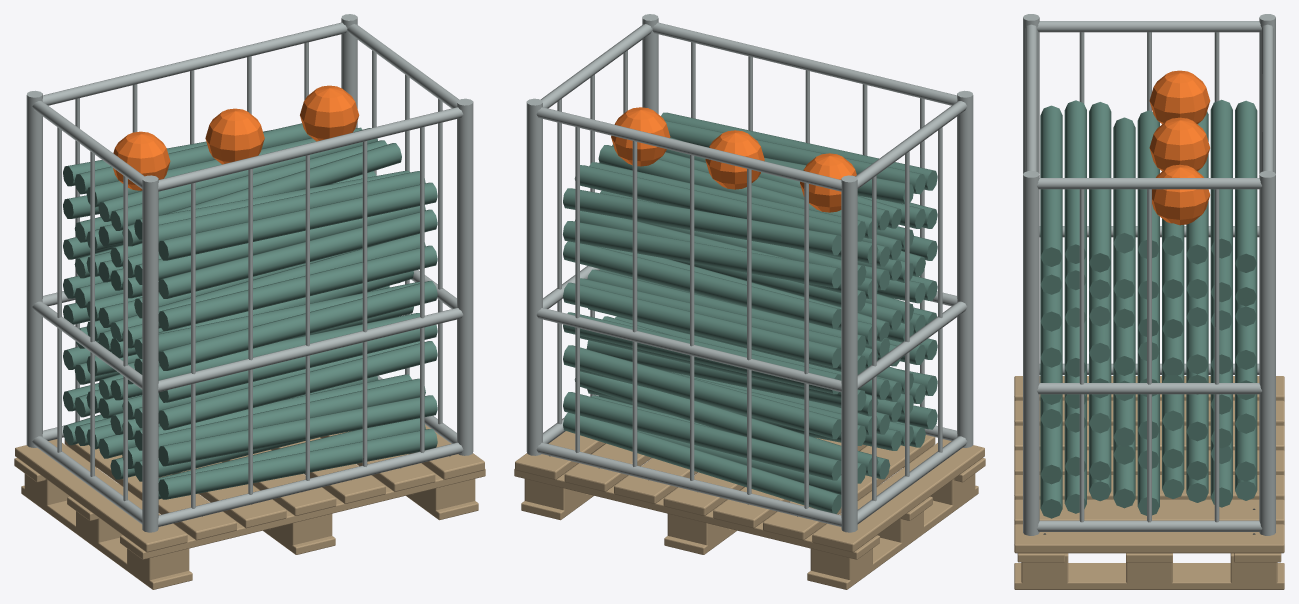
Rendered from net_storage_cage.glb.
3 renders of one model, left to right at view 1: azimuth 30°, elevation 25°; view 2: azimuth 150°, elevation 25°; view 3: azimuth 270°, elevation 25°, orthographic. The views are drawn at different scales.
Visible parts, largest first — view 1: Structure; view 2: Structure; view 3: Structure.
Part boxes in pixels (x1,y1,x2,y2): Structure: (14, 14, 485, 589); Structure: (514, 14, 985, 589); Structure: (1014, 14, 1284, 589).
Bounding box in the file's own units: 1.2 × 1.35 × 0.8.
